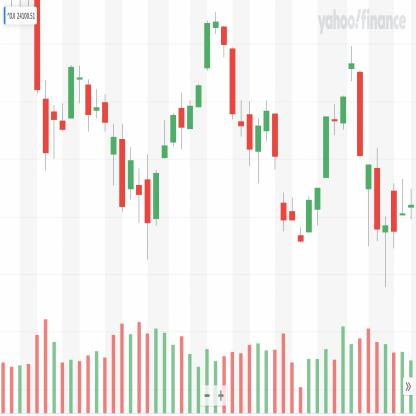Bearish Abandoned Baby: (338, 39, 366, 163)
Bearish Evening Star Doji: (203, 7, 228, 81)
